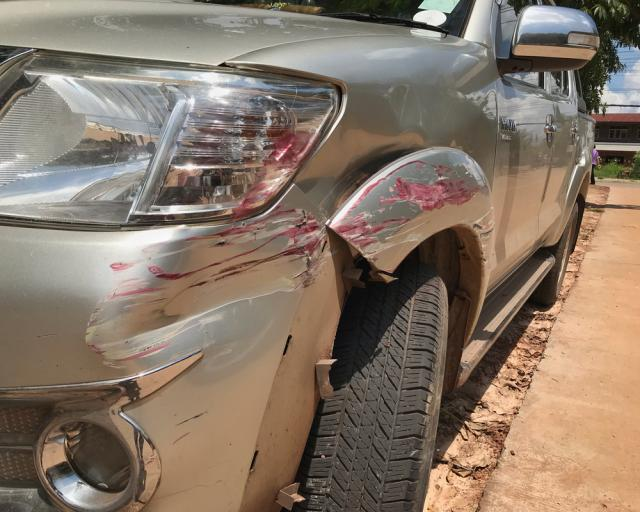dent: (118, 219, 318, 381), (298, 81, 423, 208)
scratch: (329, 159, 487, 263), (80, 251, 161, 368)
